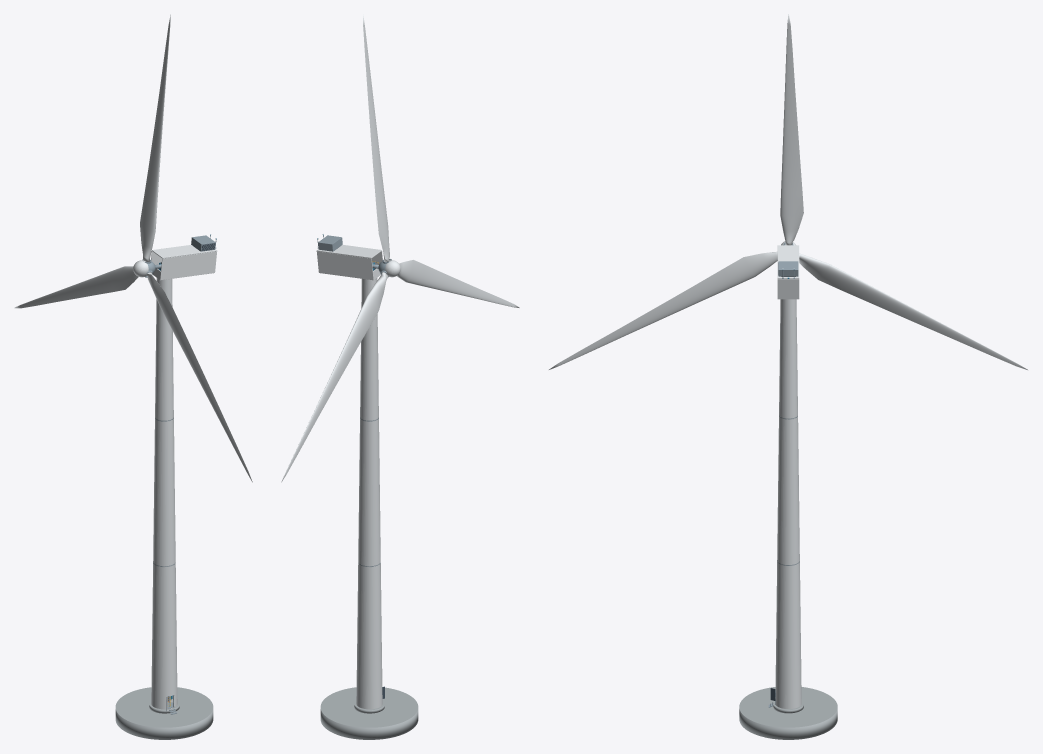
The model's file is V90_reconstruction.glb.
The picture shows the model from 3 angles, left to right: view 1: azimuth 30°, elevation 25°; view 2: azimuth 150°, elevation 25°; view 3: azimuth 270°, elevation 25°; orthographic projection.
Visible parts, largest first — view 1: SITE.FOUNDATION | 基础示意（场址未定）, TOWER.SECTION.1 | 塔筒第1段, TOWER.SECTION.2 | 塔筒第2段, ROTOR.BLADE.1 | 叶片1 / 44m, TOWER.SECTION.3 | 塔筒第3段, ROTOR.BLADE.2 | 叶片2 / 44m, ROTOR.BLADE.3 | 叶片3 / 44m, COVER.SIDE.PORT | 机舱侧罩, COVER.ROOF | 可隐藏机舱顶罩; view 2: SITE.FOUNDATION | 基础示意（场址未定）, TOWER.SECTION.1 | 塔筒第1段, TOWER.SECTION.2 | 塔筒第2段, ROTOR.BLADE.3 | 叶片3 / 44m, TOWER.SECTION.3 | 塔筒第3段, ROTOR.BLADE.2 | 叶片2 / 44m, ROTOR.BLADE.1 | 叶片1 / 44m, COVER.SIDE.STARBOARD | 机舱侧罩, COVER.ROOF | 可隐藏机舱顶罩; view 3: SITE.FOUNDATION | 基础示意（场址未定）, TOWER.SECTION.1 | 塔筒第1段, ROTOR.BLADE.2 | 叶片2 / 44m, ROTOR.BLADE.1 | 叶片1 / 44m, TOWER.SECTION.2 | 塔筒第2段, ROTOR.BLADE.3 | 叶片3 / 44m, TOWER.SECTION.3 | 塔筒第3段.
Part boxes in pixels (bbox=[...]): SITE.FOUNDATION | 基础示意（场址未定）: bbox=[115, 687, 213, 739]; TOWER.SECTION.1 | 塔筒第1段: bbox=[151, 563, 177, 709]; TOWER.SECTION.2 | 塔筒第2段: bbox=[153, 418, 175, 567]; ROTOR.BLADE.1 | 叶片1 / 44m: bbox=[140, 14, 170, 262]; TOWER.SECTION.3 | 塔筒第3段: bbox=[155, 278, 173, 421]; ROTOR.BLADE.2 | 叶片2 / 44m: bbox=[146, 272, 252, 482]; ROTOR.BLADE.3 | 叶片3 / 44m: bbox=[14, 266, 138, 308]; COVER.SIDE.PORT | 机舱侧罩: bbox=[160, 251, 216, 279]; COVER.ROOF | 可隐藏机舱顶罩: bbox=[152, 245, 217, 258]; SITE.FOUNDATION | 基础示意（场址未定）: bbox=[320, 687, 418, 739]; TOWER.SECTION.1 | 塔筒第1段: bbox=[356, 563, 382, 709]; TOWER.SECTION.2 | 塔筒第2段: bbox=[358, 418, 380, 567]; ROTOR.BLADE.3 | 叶片3 / 44m: bbox=[281, 272, 388, 482]; TOWER.SECTION.3 | 塔筒第3段: bbox=[360, 278, 378, 421]; ROTOR.BLADE.2 | 叶片2 / 44m: bbox=[397, 259, 519, 307]; ROTOR.BLADE.1 | 叶片1 / 44m: bbox=[363, 14, 389, 262]; COVER.SIDE.STARBOARD | 机舱侧罩: bbox=[316, 251, 373, 279]; COVER.ROOF | 可隐藏机舱顶罩: bbox=[316, 244, 381, 258]; SITE.FOUNDATION | 基础示意（场址未定）: bbox=[739, 687, 837, 739]; TOWER.SECTION.1 | 塔筒第1段: bbox=[775, 561, 801, 708]; ROTOR.BLADE.2 | 叶片2 / 44m: bbox=[549, 251, 777, 369]; ROTOR.BLADE.1 | 叶片1 / 44m: bbox=[780, 14, 803, 245]; TOWER.SECTION.2 | 塔筒第2段: bbox=[777, 416, 799, 565]; ROTOR.BLADE.3 | 叶片3 / 44m: bbox=[799, 253, 1027, 369]; TOWER.SECTION.3 | 塔筒第3段: bbox=[779, 299, 797, 419].
Size of the model in its own units: 17.43 by 127 by 77.98.
